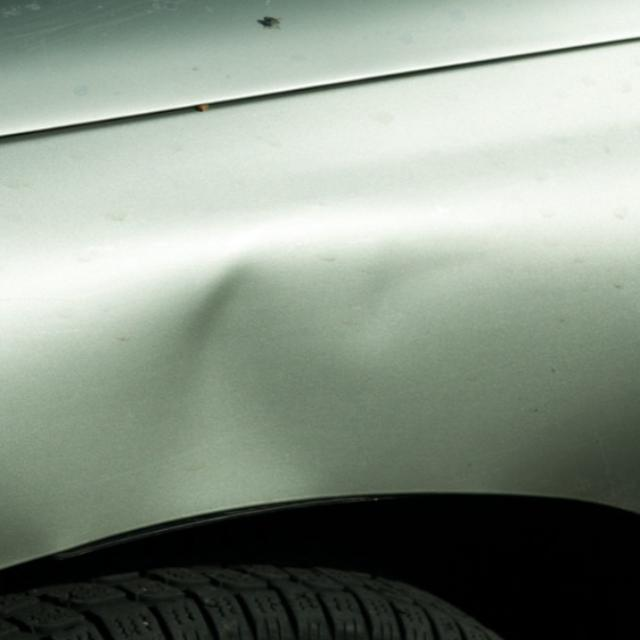dents: (124, 225, 388, 490)
